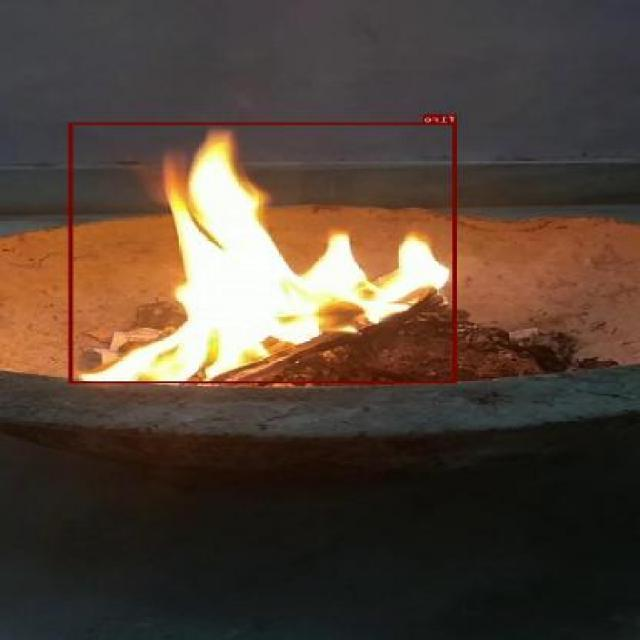Fire: (69, 122, 457, 382)
